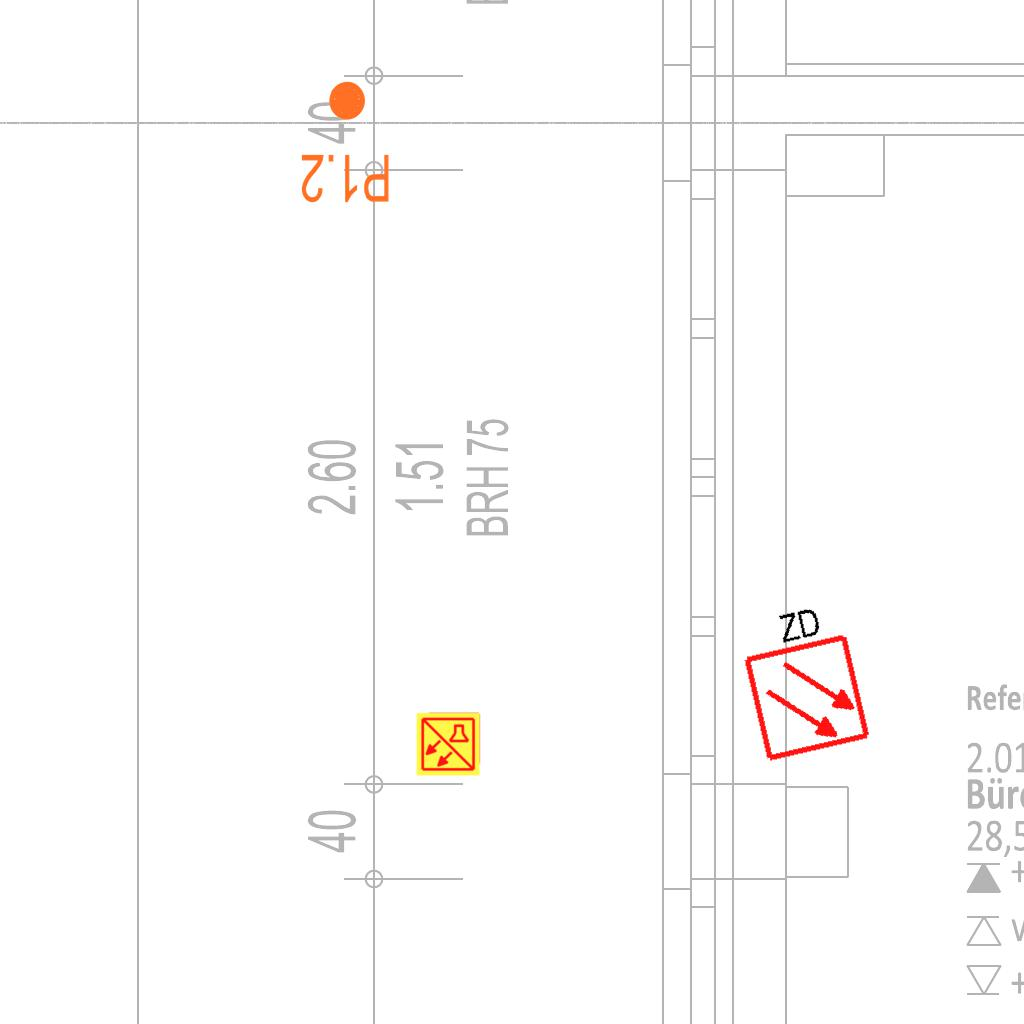Downlight_LED_Einbauleuchten_Flur: (299, 78, 392, 206)
OKW_Multisensormelder_(Kombination_optischer_Rauch-Kahlenmonoxid_Waerme-Melder): (415, 711, 481, 777)
ZD_Melder_in_Zwischendecke_mit_Revisionsoeffnung_mind_40_x_40_cm: (728, 594, 874, 765)
